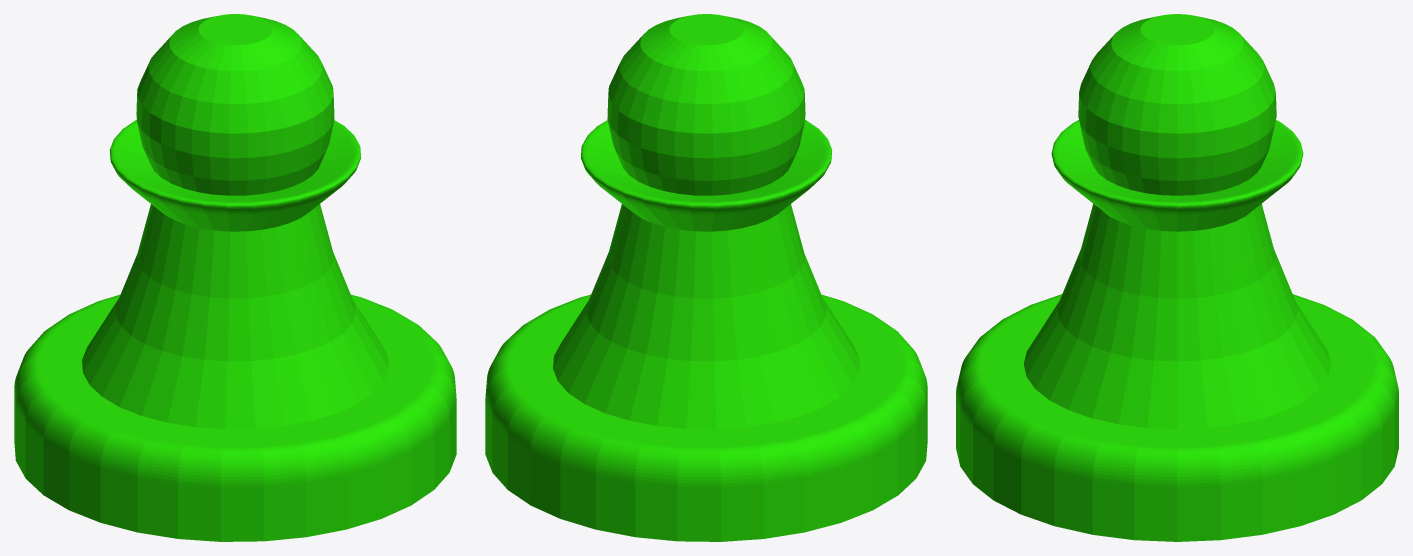
Rendered from GreenPawn.fbx.
The picture shows the model from 3 angles, left to right: view 1: azimuth 30°, elevation 25°; view 2: azimuth 150°, elevation 25°; view 3: azimuth 270°, elevation 25°; orthographic projection.
Visible parts, largest first — view 1: Cylinder; view 2: Cylinder; view 3: Cylinder.
Part boxes in pixels (x1,y1,x2,y2): Cylinder: [14, 14, 456, 541]; Cylinder: [485, 14, 927, 541]; Cylinder: [956, 14, 1398, 541].
Size of the model in its own units: 22.44 by 23.4 by 22.44.
